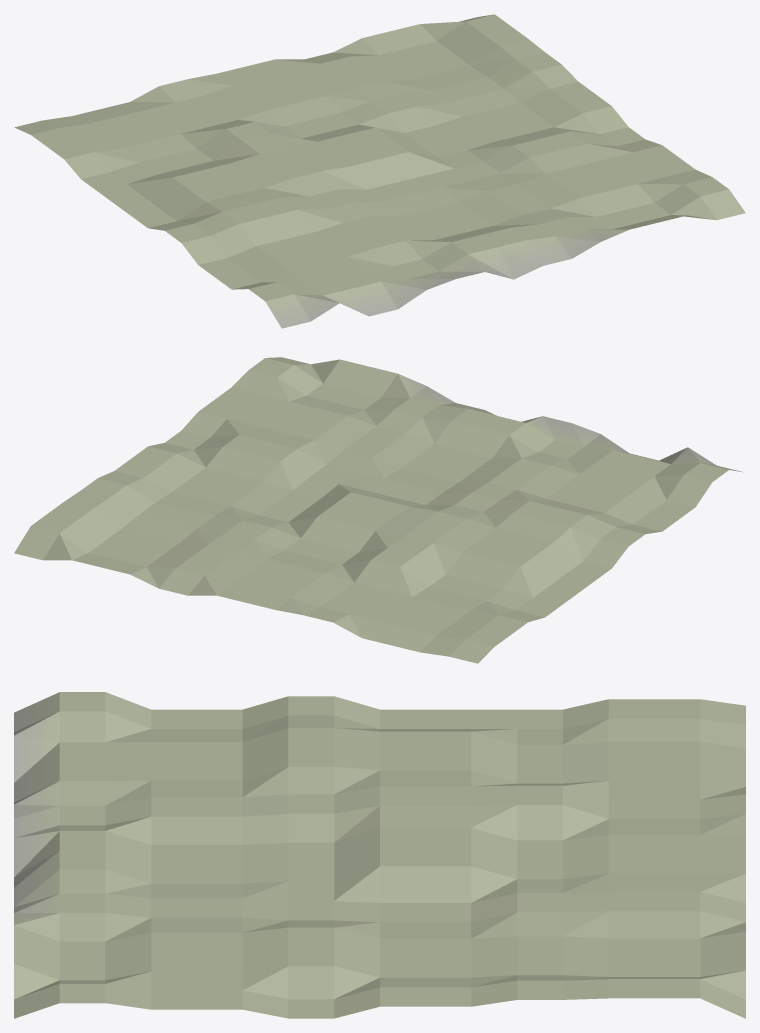
3 views of the same model, one above another, from view 1: azimuth 30°, elevation 25°; view 2: azimuth 150°, elevation 25°; view 3: azimuth 270°, elevation 25° (orthographic). The views are drawn at different scales.
Bounding box in the file's own units: 32 × 1.74 × 32.
